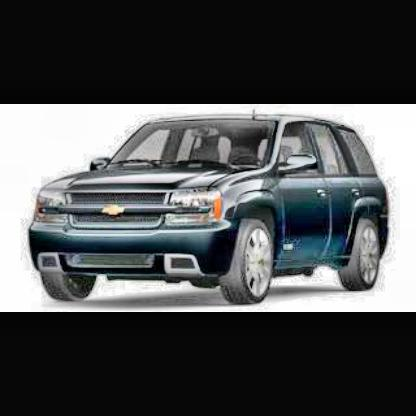Chevrolet TrailBlazer SS 2009: (29, 111, 395, 311)
